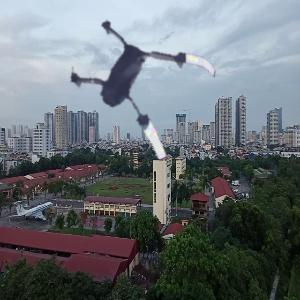drone: (51, 3, 221, 173)
